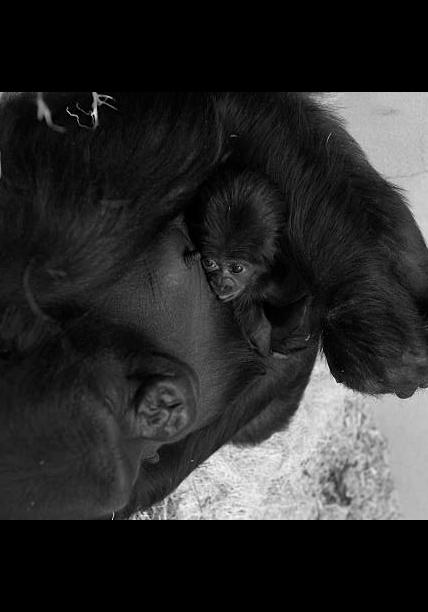gorille_Autres: (0, 94, 428, 520)
